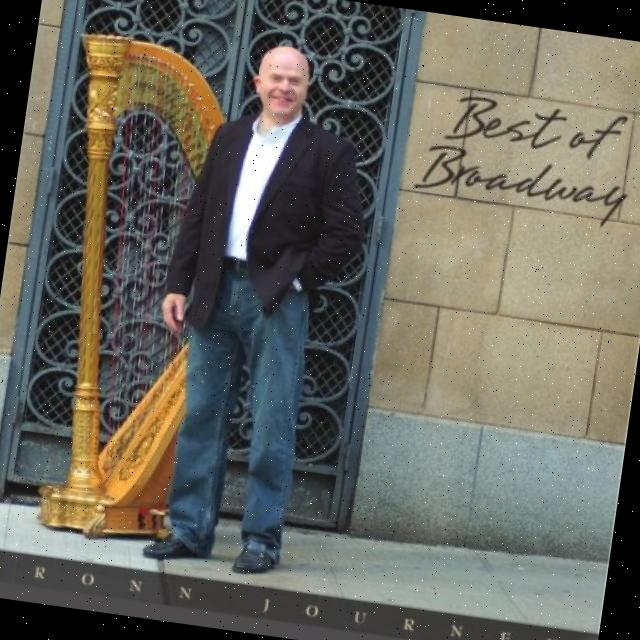harp: (6, 21, 268, 552)
